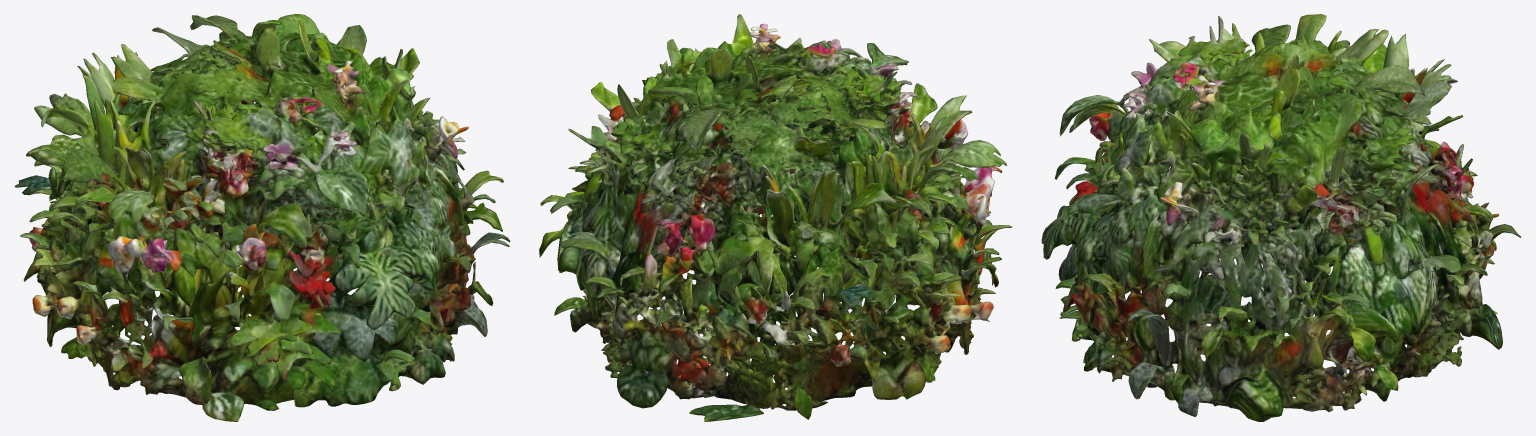
The model's file is tropical bush.glb.
The picture shows the model from 3 angles, left to right: view 1: azimuth 30°, elevation 25°; view 2: azimuth 150°, elevation 25°; view 3: azimuth 270°, elevation 25°; orthographic projection. The views are drawn at different scales.
Visible parts, largest first — view 1: geometry_0; view 2: geometry_0; view 3: geometry_0.
Part boxes in pixels (box(x1,y1,x2,y2)): geometry_0: box(15, 14, 510, 421); geometry_0: box(539, 14, 1012, 421); geometry_0: box(1041, 14, 1520, 421).
Bounding box in the file's own units: 0.964 × 0.6342 × 0.9575.
Materials: 1 (1 with a texture image).
